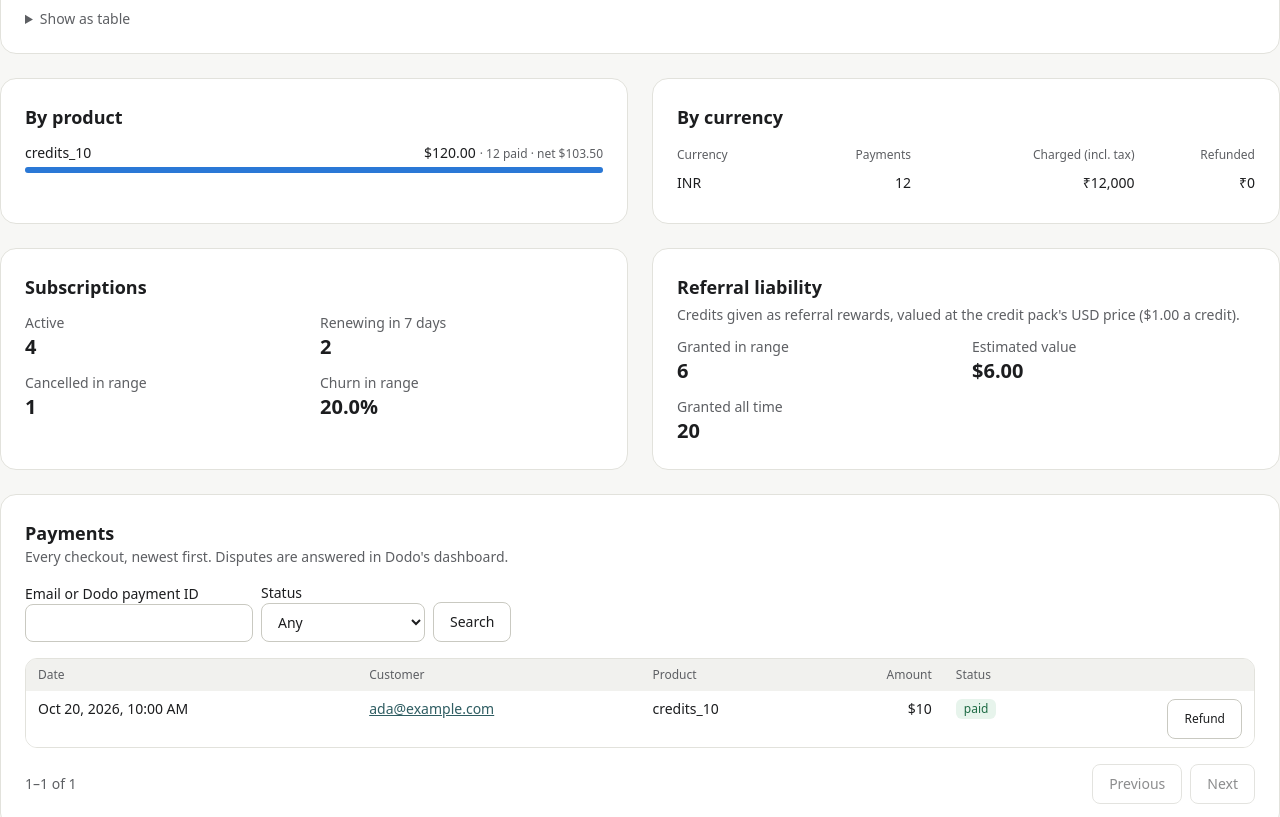
it: revenue › refunds part of a payment with a reason
(page scrolled)
Click the button with aria-label "Refund ada@example.com". click: (1205, 719)
box: [1167,699,1242,739]
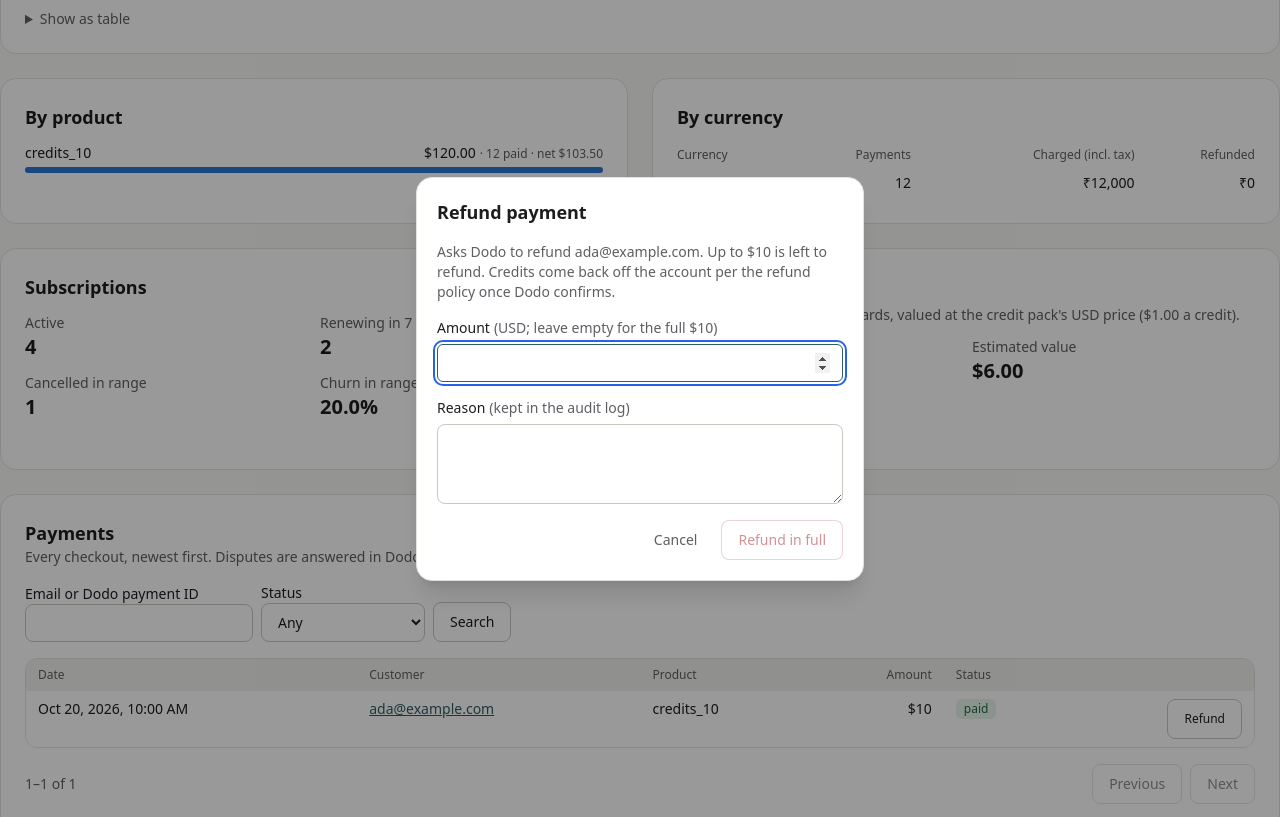
Type "11" into the number field labelled "Amount(USD; leave empty for the full $10)". click: (640, 363)
box: [437,344,843,382]
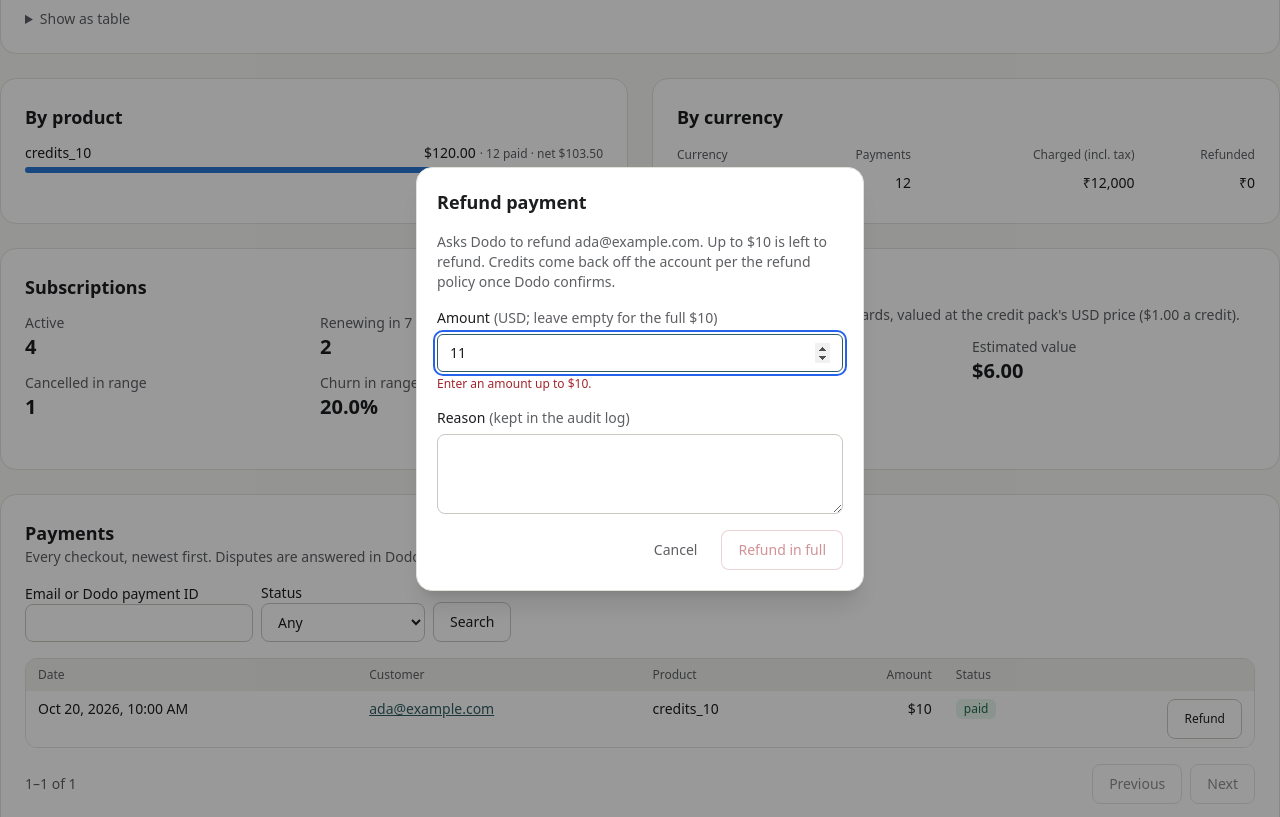
Check: the text "Enter an amount up to $10." is shown, box [437,375,592,392]
Clear the number field labelled "Amount(USD; leave empty for the full $10)". click: (640, 353)
box: [437,334,843,372]
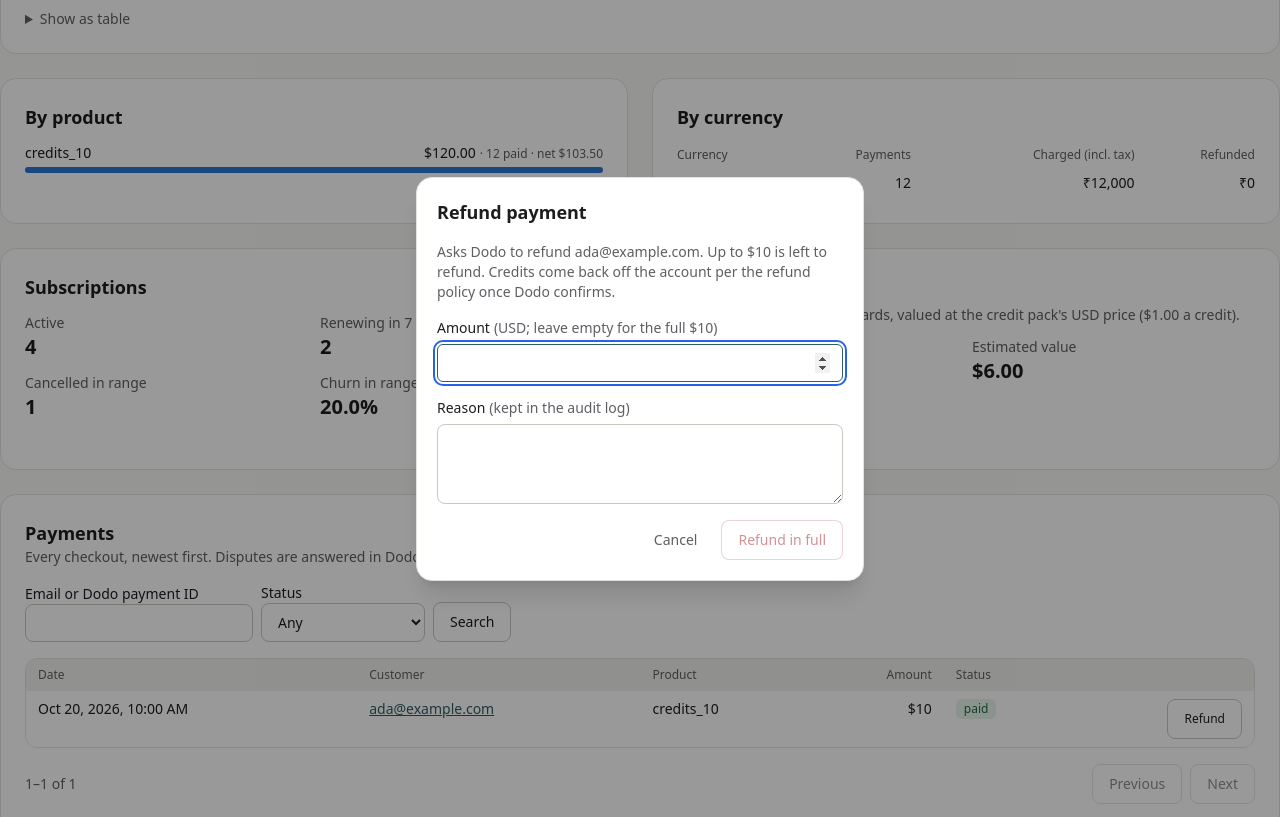
Type "2.50" into the number field labelled "Amount(USD; leave empty for the full $10)". click: (640, 363)
box: [437,344,843,382]
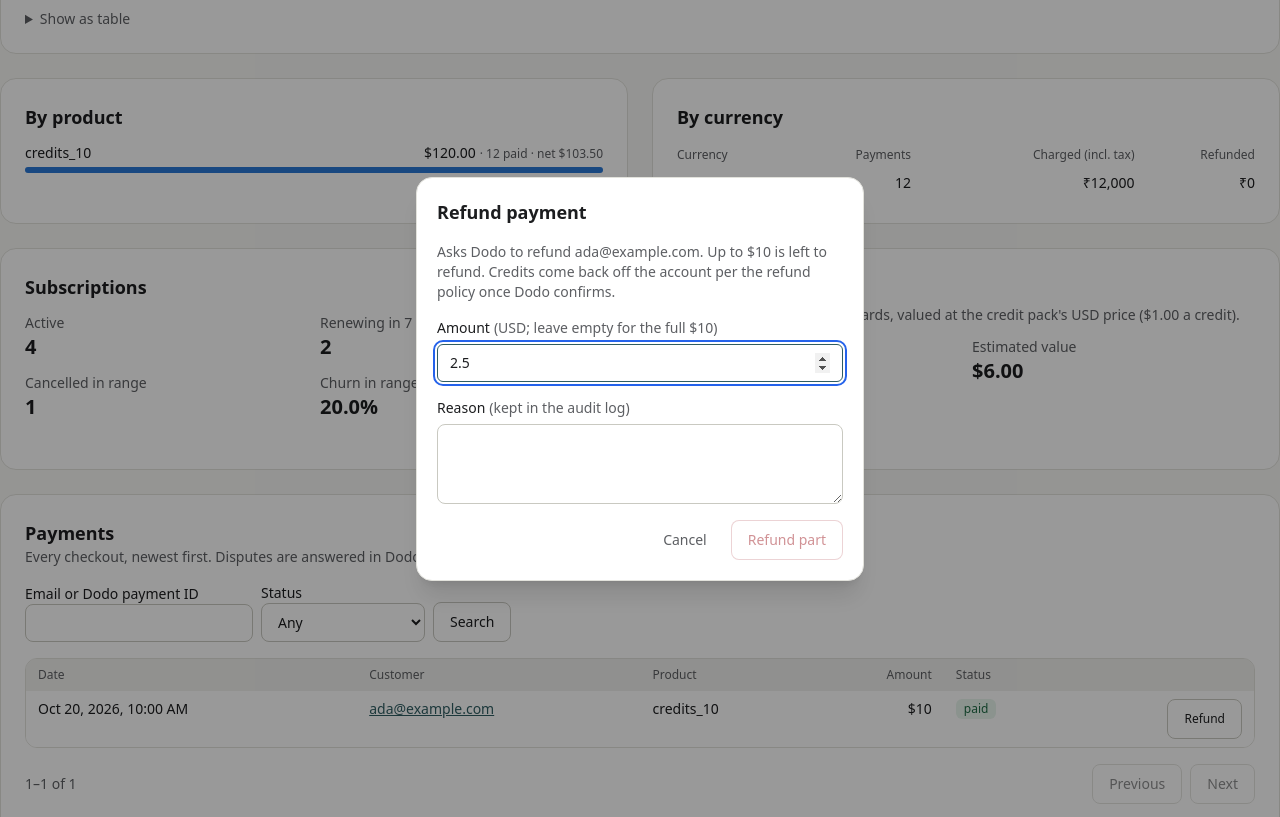
Type "late delivery" into the text box labelled "Reason(kept in the audit log)". click: (640, 464)
box: [437,424,843,504]
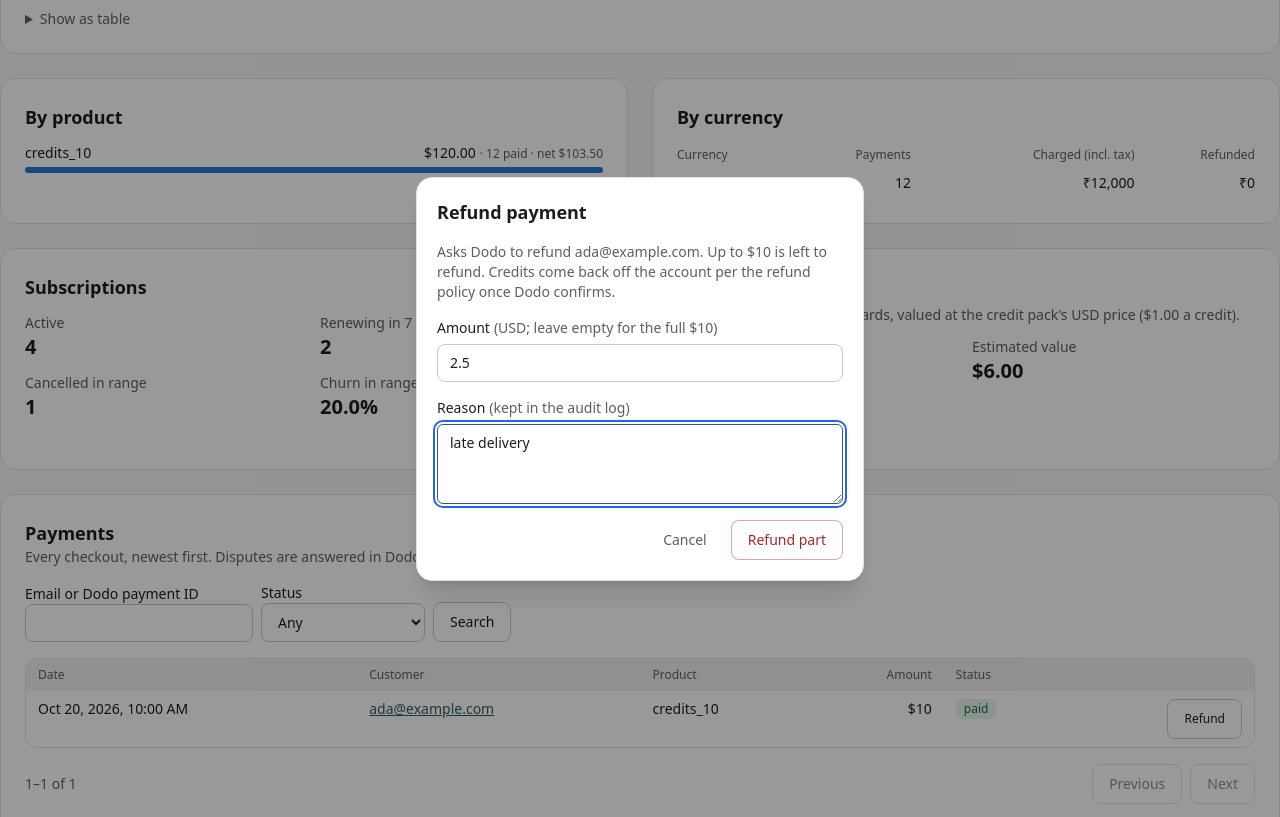
Click the button "Refund part". click: (787, 540)
box: [731,520,843,560]
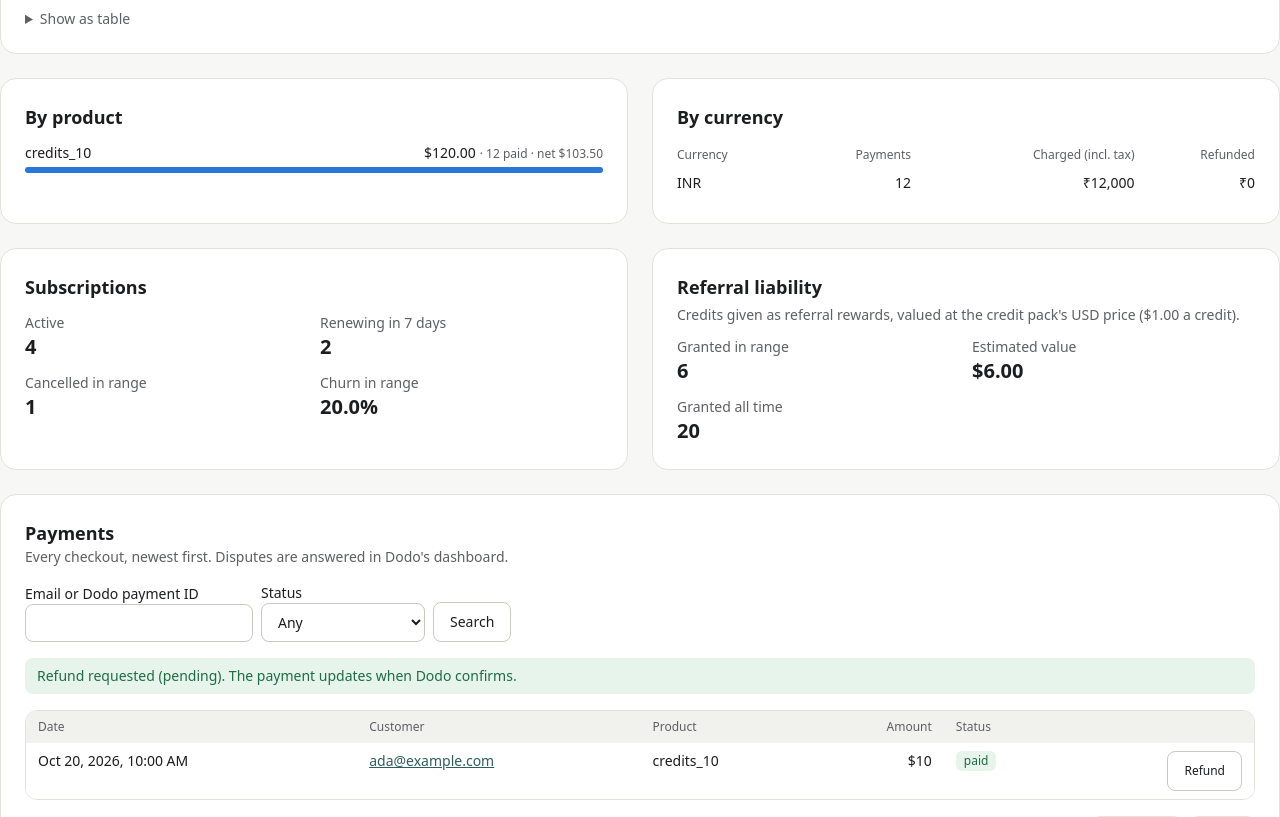
Check: the message shows "Refund requested (pending)", box [37,666,517,685]
